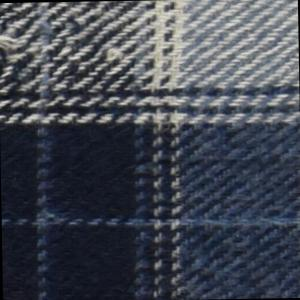Stain: (1, 12, 90, 91)
